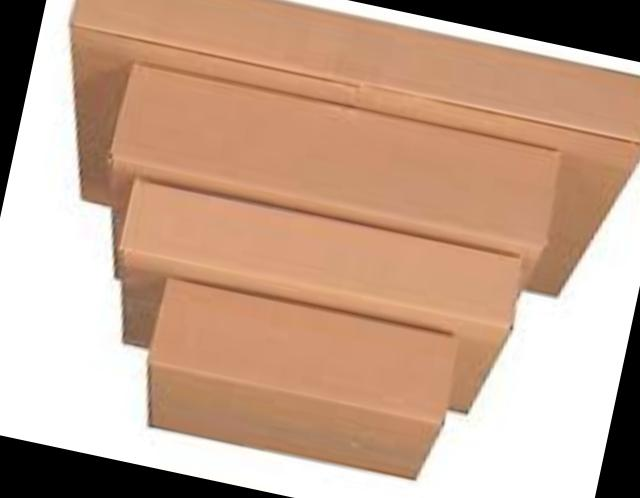cardboard paper: (66, 0, 640, 481), (66, 0, 640, 298), (112, 182, 514, 415), (107, 69, 554, 271), (144, 283, 452, 482)
